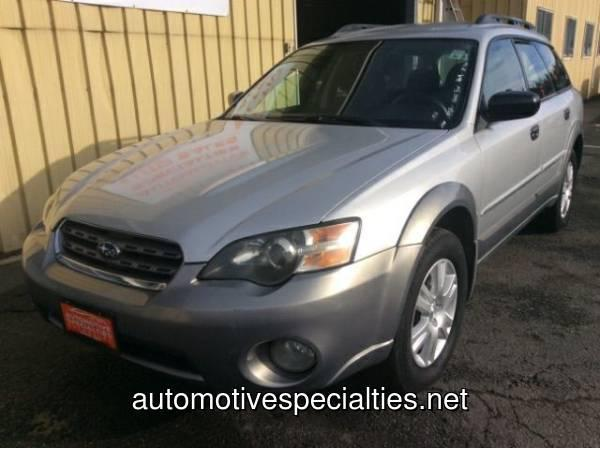Front_Bumper: (20, 223, 422, 396)
Front_Fender: (322, 129, 478, 269)
Front_Left_Door: (471, 108, 539, 264)
Front_Left_Window: (478, 41, 536, 132)
Front_Windshield: (218, 39, 478, 132)
Grille: (49, 222, 181, 295)
Hood: (40, 120, 445, 261)
Left_Headlight: (192, 221, 356, 291)
Rear_Fender: (541, 42, 588, 143)
Rear_Left_Door: (534, 95, 569, 208)
Rear_Left_Window: (514, 40, 563, 107)
Roof: (309, 20, 552, 129)
Wheel: (396, 228, 471, 385), (552, 159, 574, 220)
